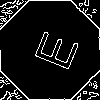E: (25, 25, 80, 73)
